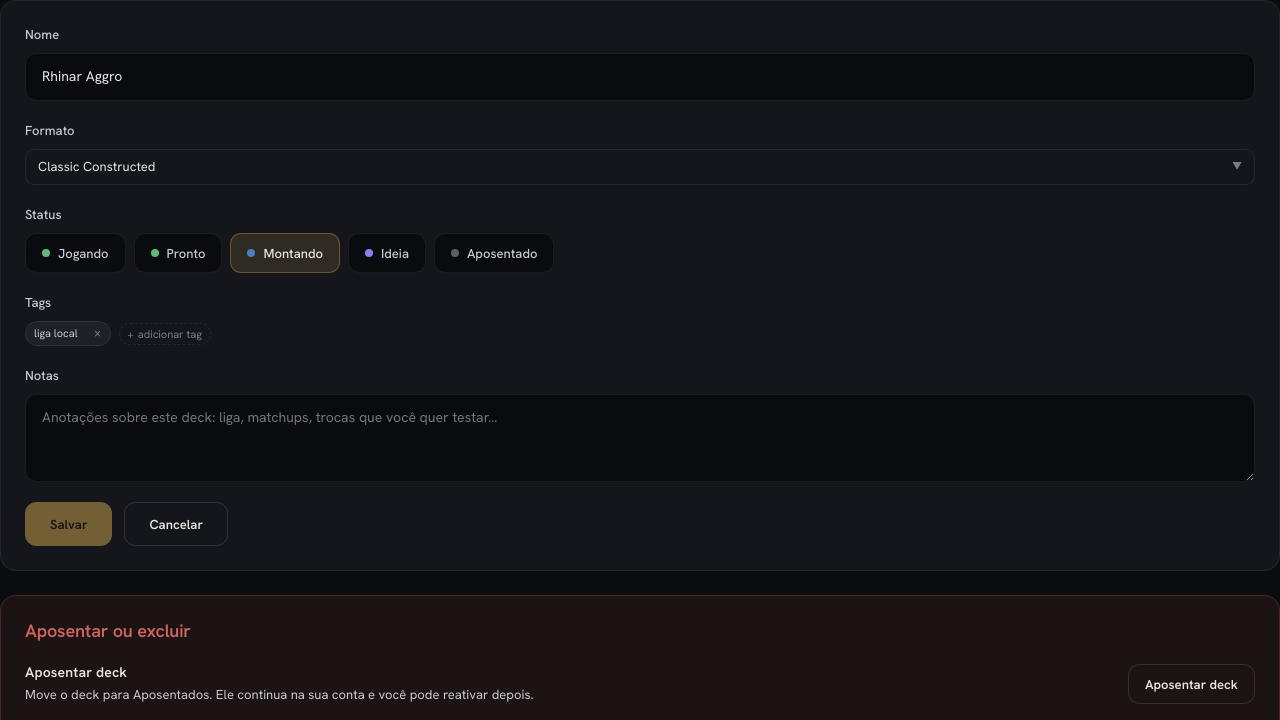
it: DeckEditForm: saving › keeps Save disabled until something changes
Expected: the button with test id "deck-edit-save" is disabled, top-left (25, 502), bottom-right (112, 546)
Replace the text in the field with test id "deck-edit-name" with "Rhinar Control" at (640, 77), box top-left (25, 53), bottom-right (1255, 101)
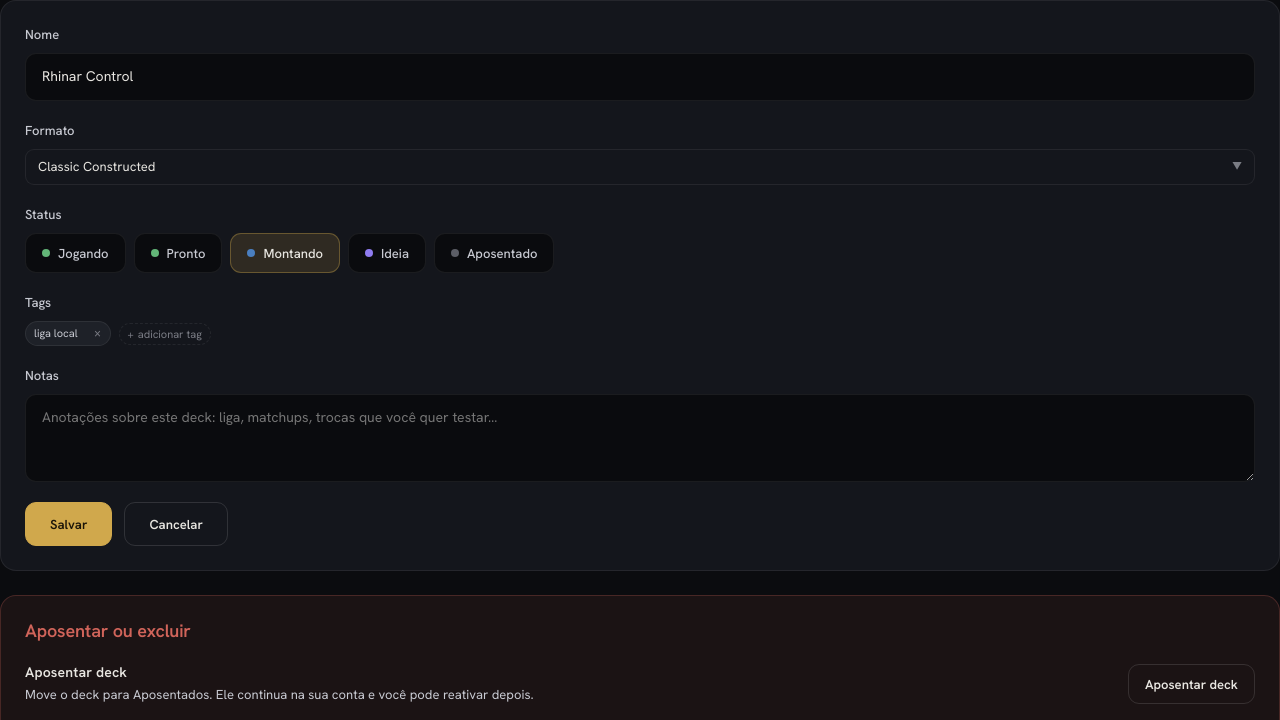
Now the button with test id "deck-edit-save" is enabled, box top-left (25, 502), bottom-right (112, 546)
